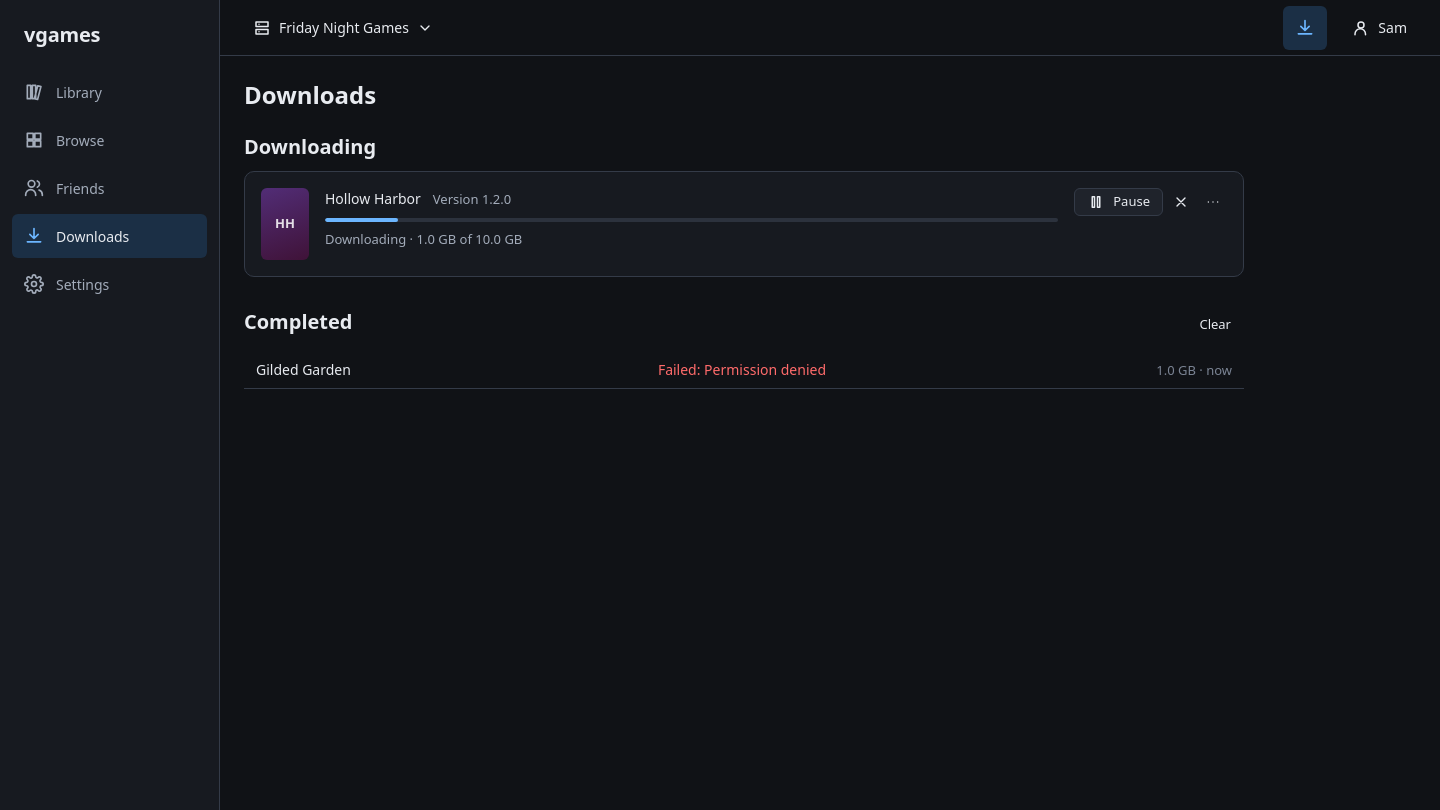
downloads › clears the completed list
Expected: the element "Completed" shows "Failed: Permission denied", [658,360,826,379]
What coordinates should you click on to do the following:
click the button with aria-label "Clear the completed list"
I would click on:
 (1215, 325)
Its box is [1186,311,1244,339].
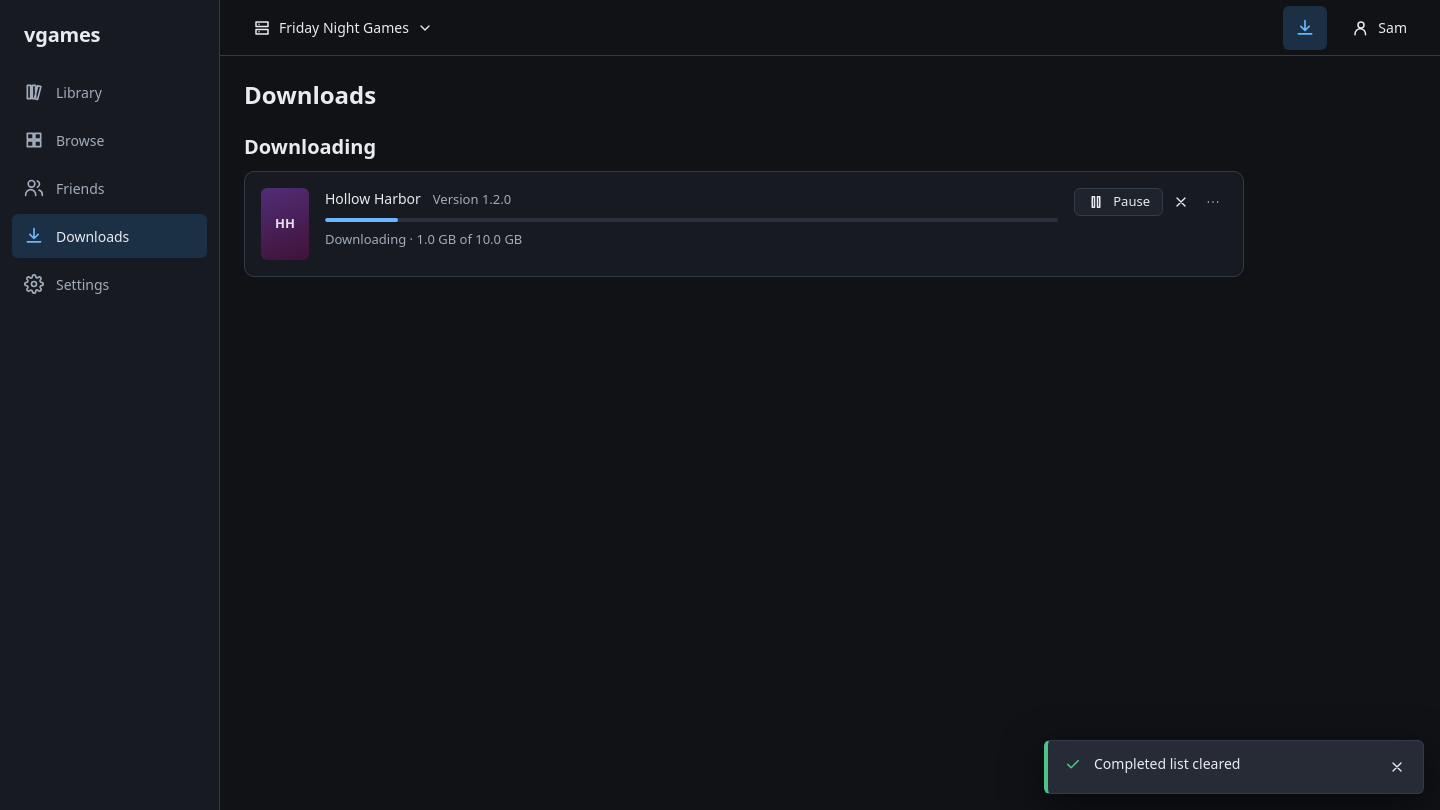
Now the text "Completed list cleared" is shown, box [1094,754,1240,773]
